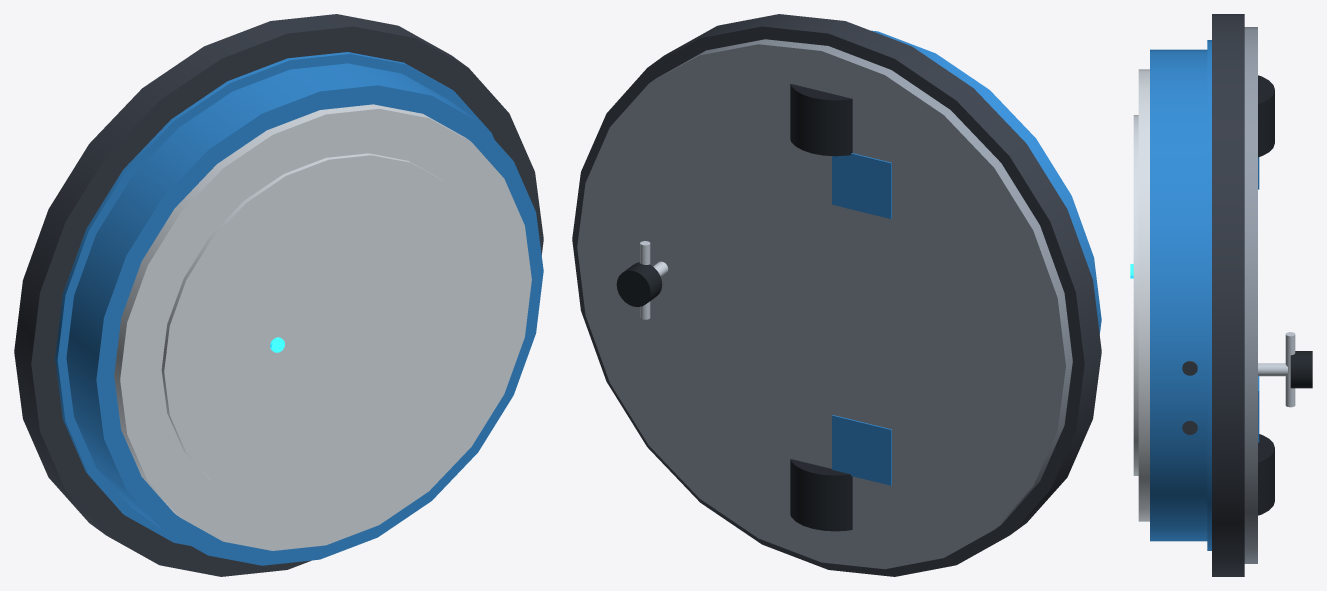
File: robot.glb
The picture shows the model from 3 angles, left to right: view 1: azimuth 30°, elevation 25°; view 2: azimuth 150°, elevation 25°; view 3: azimuth 270°, elevation 25°; orthographic projection. The views are drawn at different scales.
Parts seen in each view (by area): view 1: RS_upper-shell, RS_bumper, RS_base; view 2: RS_base, RS_bumper, RS_right-wheel, RS_left-wheel, RS_left-motor, RS_right-motor, RS_upper-shell, RS_caster; view 3: RS_upper-shell, RS_bumper, RS_base, RS_caster, RS_right-wheel, RS_left-wheel, RS_front-sensor.
Boxes of the visible parts, x1,y1,x2,y2 form: RS_upper-shell: (66,63,543,565); RS_bumper: (14,14,543,576); RS_base: (55,52,493,545); RS_base: (577,39,1072,569); RS_bumper: (572,14,1101,576); RS_right-wheel: (790,83,852,156); RS_left-wheel: (790,459,852,531); RS_left-motor: (832,415,891,485); RS_right-motor: (832,153,891,218); RS_upper-shell: (871,30,1101,334); RS_caster: (616,241,668,319); RS_upper-shell: (1130,49,1207,541); RS_bumper: (1212,14,1244,576); RS_base: (1207,27,1257,563); RS_caster: (1258,332,1312,407); RS_right-wheel: (1258,75,1274,157); RS_left-wheel: (1258,434,1274,515); RS_front-sensor: (1182,361,1197,434).
Bounding box in the file's own units: 6.92 × 6.92 × 2.23.
